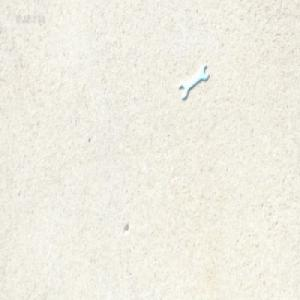Wrench: (180, 65, 209, 100)
